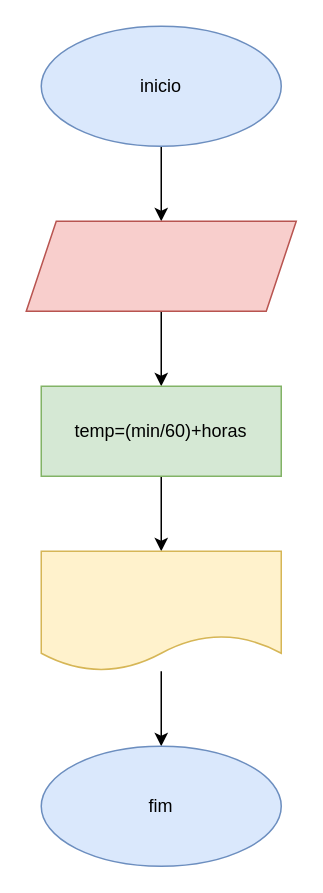
Image size: 323x893. Some labels were removed from this diagram. The shapes that lost their labels are listed below. From the top down, each one's centre as x and y in pixels, then its label:
At (160,265): "horas,min,seg,temp".
At (160,610): "tempo em segundos".
